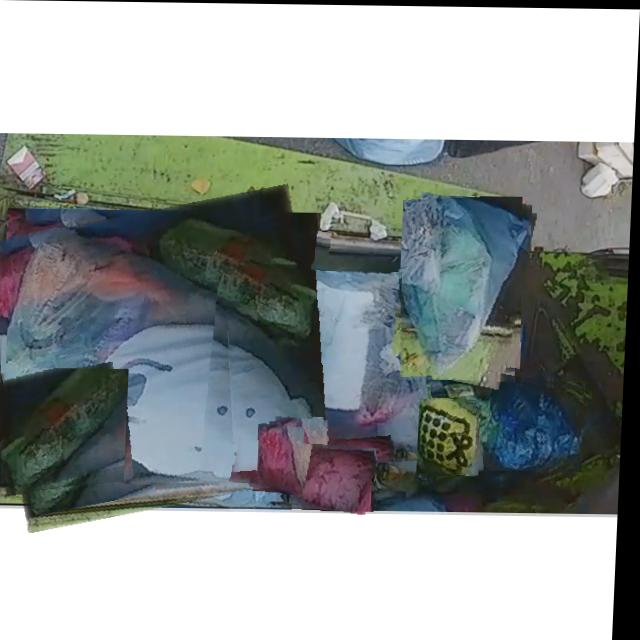general_trashbag: (6, 369, 132, 493), (423, 399, 482, 472)
other_trashbag: (8, 228, 318, 484), (228, 269, 439, 457), (404, 194, 532, 374), (491, 376, 584, 466), (297, 443, 380, 510), (262, 425, 306, 494)
